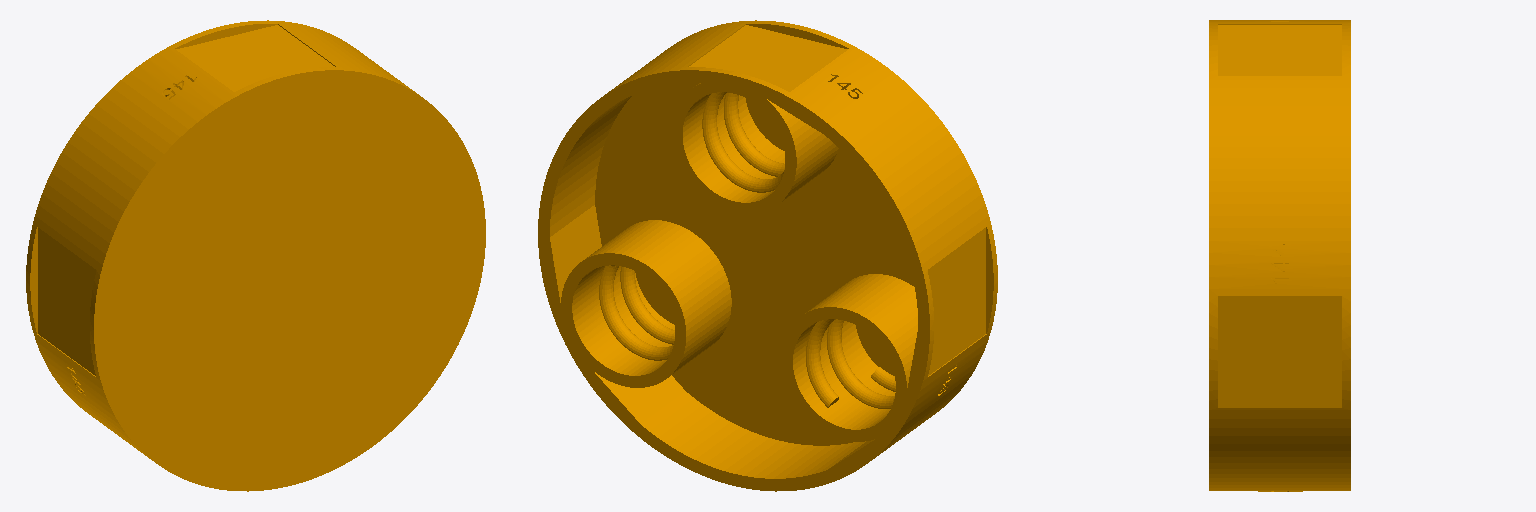
The robot description file, URDF, robot "stool_seat":
<?xml version="1.0"?>
<robot name="stool_seat">
    <link name="stool_seat">
        <visual>
            <geometry>
                <mesh filename="../mesh/stool/stool_seat.obj" scale="1 1 1"/>
            </geometry>
        </visual>
        <collision>
            <geometry>
                <mesh filename="../mesh/stool/stool_seat.obj" scale="1 1 1"/>
            </geometry>
            <sdf resolution="512"/>
        </collision>
    </link>
</robot>

--- Facts derived from the render (not from the file) ---
3 views of the same robot in one strip: view 1: azimuth 30°, elevation 25°; view 2: azimuth 150°, elevation 25°; view 3: azimuth 270°, elevation 25° (orthographic).
Model stool_seat with 1 links and 0 joints (none), rooted at stool_seat, posed all joints at 0.
Visible links, largest first — view 1: stool_seat; view 2: stool_seat; view 3: stool_seat.
Boxes of the visible links, <box> form: stool_seat: <box>26,20,485,491</box>; stool_seat: <box>538,20,997,491</box>; stool_seat: <box>1209,20,1350,491</box>.
Size in the robot's own frame: 0.1 by 0.03 by 0.1 metres.
Meshes: 1 distinct files referenced, 1 mesh visuals loaded (1 OBJ).